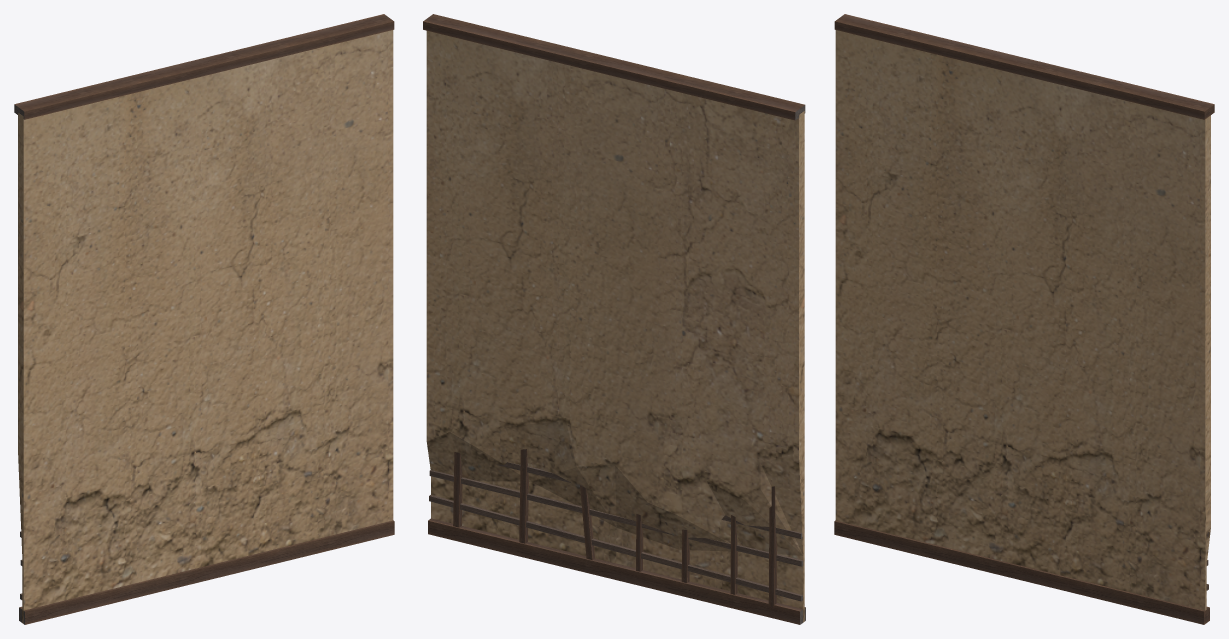
The model's file is outwall12_1t.fbx.
3 views of the same model, side by side, from view 1: azimuth 30°, elevation 25°; view 2: azimuth 150°, elevation 25°; view 3: azimuth 330°, elevation 25° (orthographic).
Visible parts, largest first — view 1: outwall12_1t; view 2: outwall12_1t; view 3: outwall12_1t.
Boxes of the visible parts, x1=… form: outwall12_1t: x1=14, y1=14, x2=394, y2=624; outwall12_1t: x1=423, y1=14, x2=805, y2=624; outwall12_1t: x1=834, y1=14, x2=1214, y2=624.
Bounding box in the file's own units: 220 × 292 × 10.84.
